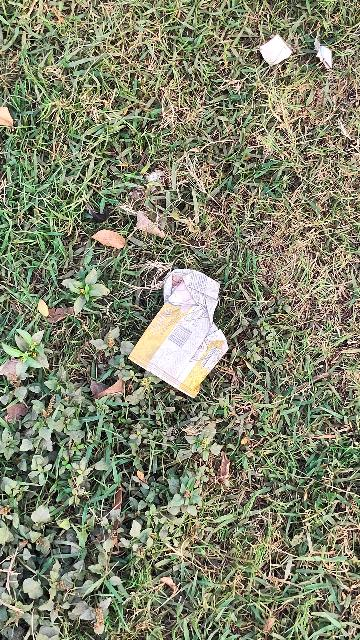packet: (115, 251, 250, 398)
